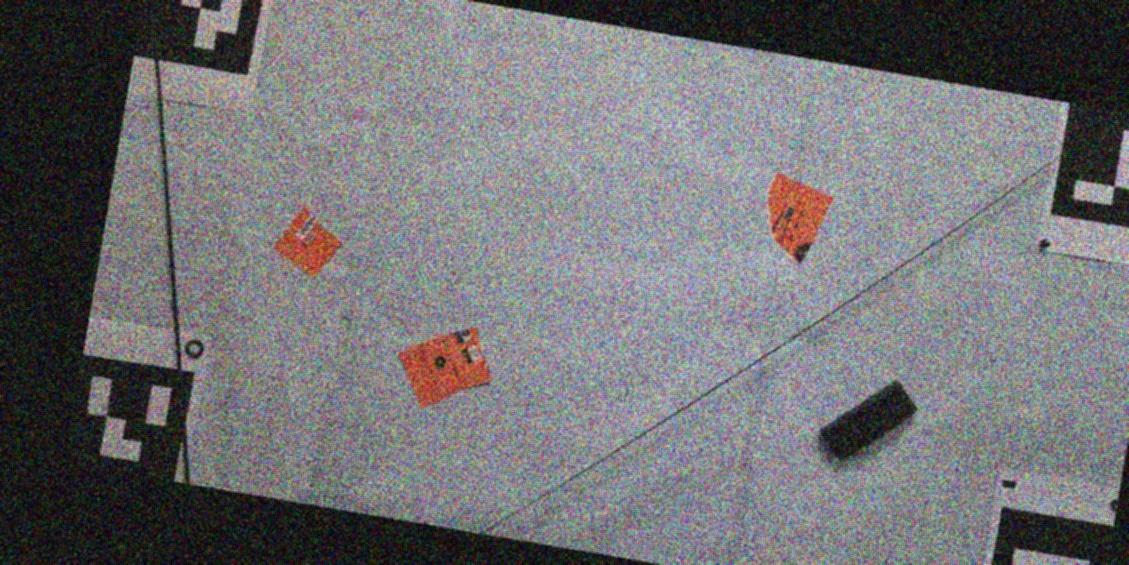obstacle: (817, 377, 918, 463), (399, 325, 494, 409), (765, 171, 833, 263), (276, 206, 344, 281)
